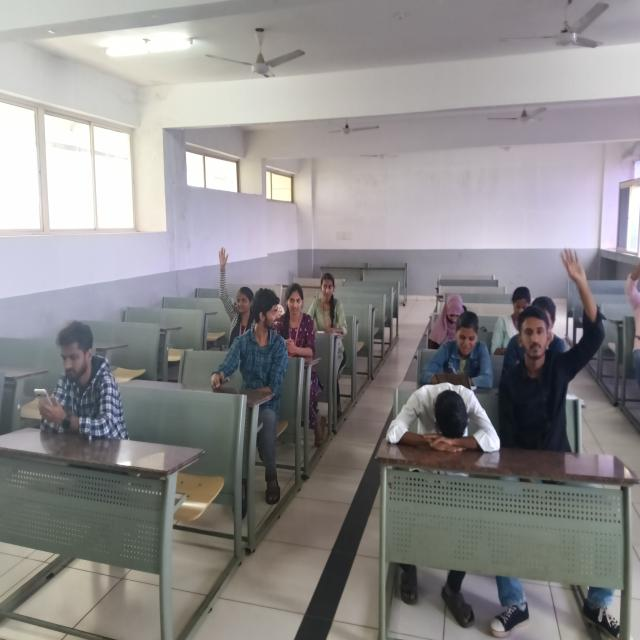Hand Rising: (508, 235, 600, 448), (205, 232, 262, 350)
Sleeping: (377, 362, 518, 474)
Using Phone: (20, 298, 137, 460)
Writing: (406, 306, 500, 393)
